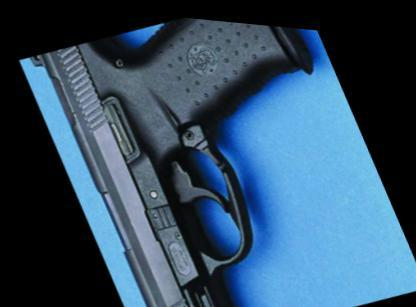pistol: (24, 1, 411, 305)
